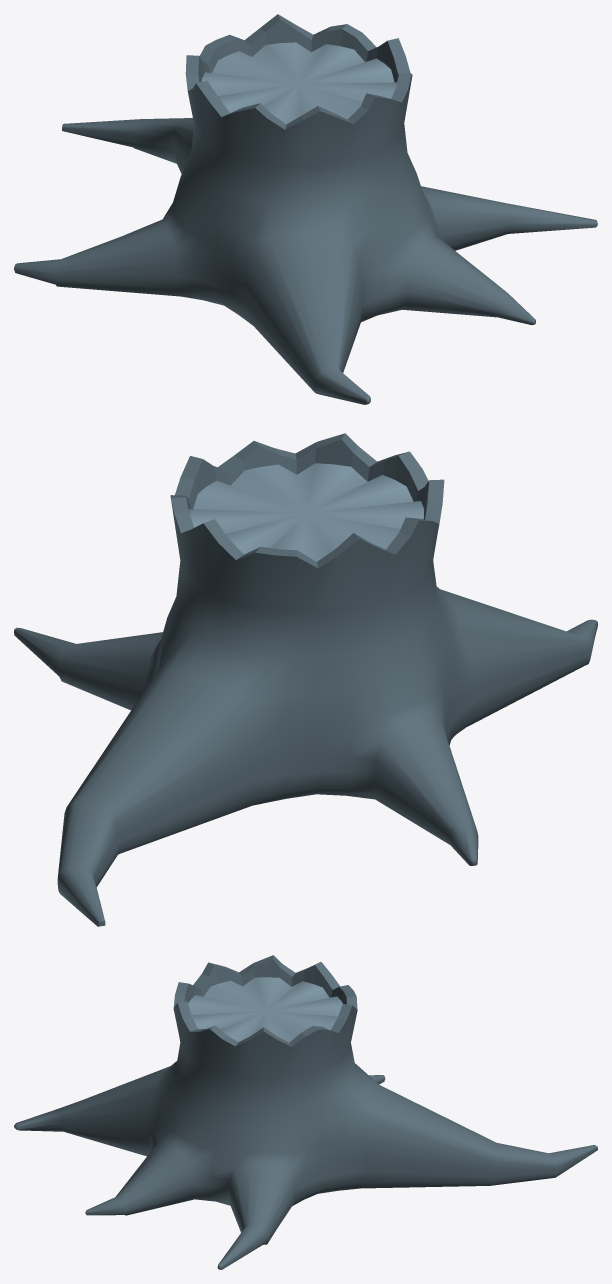
The model's file is Tronco5.fbx.
3 views of the same model, one above another, from view 1: azimuth 30°, elevation 25°; view 2: azimuth 150°, elevation 25°; view 3: azimuth 270°, elevation 25° (orthographic). The views are drawn at different scales.
Parts seen in each view (by area): view 1: Tronco5; view 2: Tronco5; view 3: Tronco5.
Part boxes in pixels (x1,y1,x2,y2): Tronco5: (14,14,597,404); Tronco5: (14,433,597,926); Tronco5: (14,955,597,1269).
Size of the model in its own units: 466 by 199 by 600.
